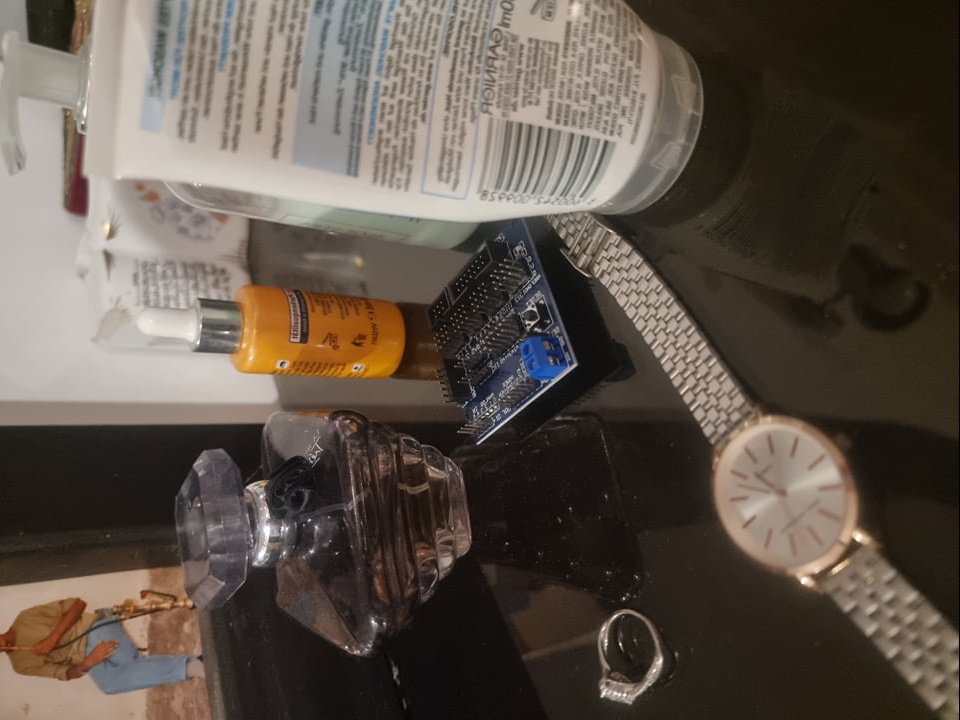SENSOR: (418, 213, 579, 446)
